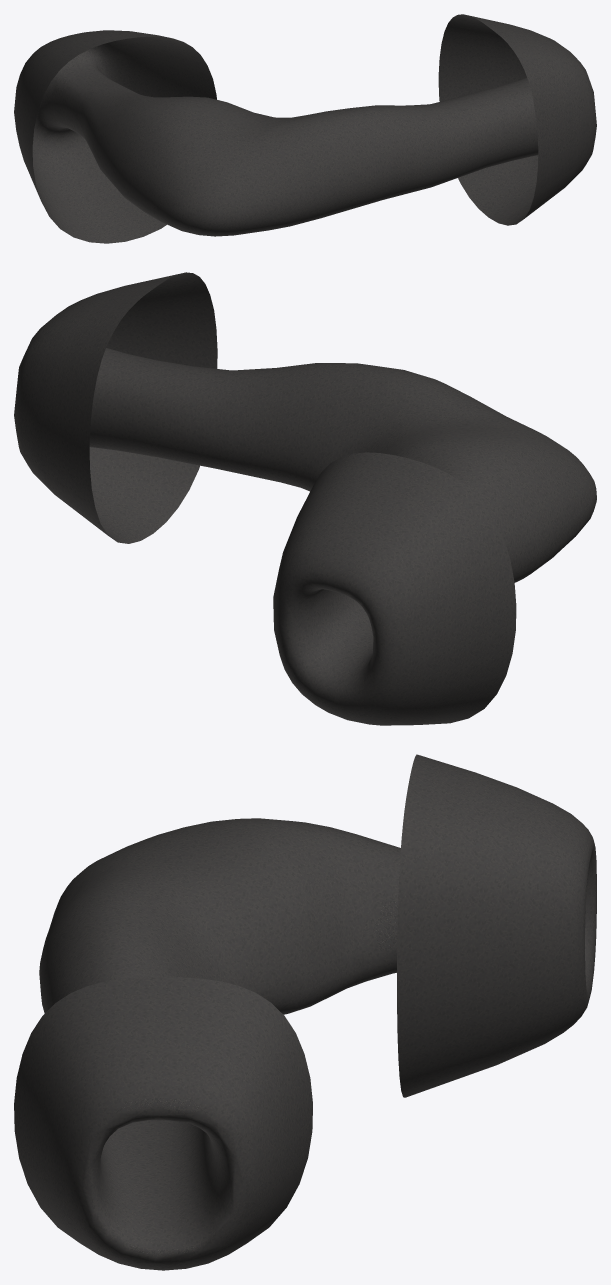
Rendered from Cave_Corridor.fbx.
The picture shows the model from 3 angles, top to bottom: view 1: azimuth 30°, elevation 25°; view 2: azimuth 150°, elevation 25°; view 3: azimuth 270°, elevation 25°; orthographic projection. The views are drawn at different scales.
Visible parts, largest first — view 1: Cave_Corridor; view 2: Cave_Corridor; view 3: Cave_Corridor.
Boxes of the visible parts, x1,y1,x2,y2 form: Cave_Corridor: (14,14,596,243); Cave_Corridor: (14,272,596,725); Cave_Corridor: (14,754,596,1270).
Size of the model in its own units: 4543 by 1986 by 3382.
1 material, 1 textured.
